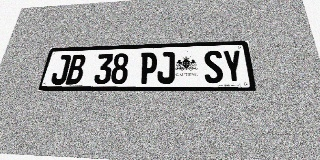3: (93, 54, 114, 84)
8: (110, 53, 130, 84)
B: (65, 54, 87, 84)
J: (50, 55, 71, 85), (157, 52, 175, 84)
P: (139, 52, 158, 84)
S: (203, 50, 224, 83)
Y: (222, 50, 244, 83)
